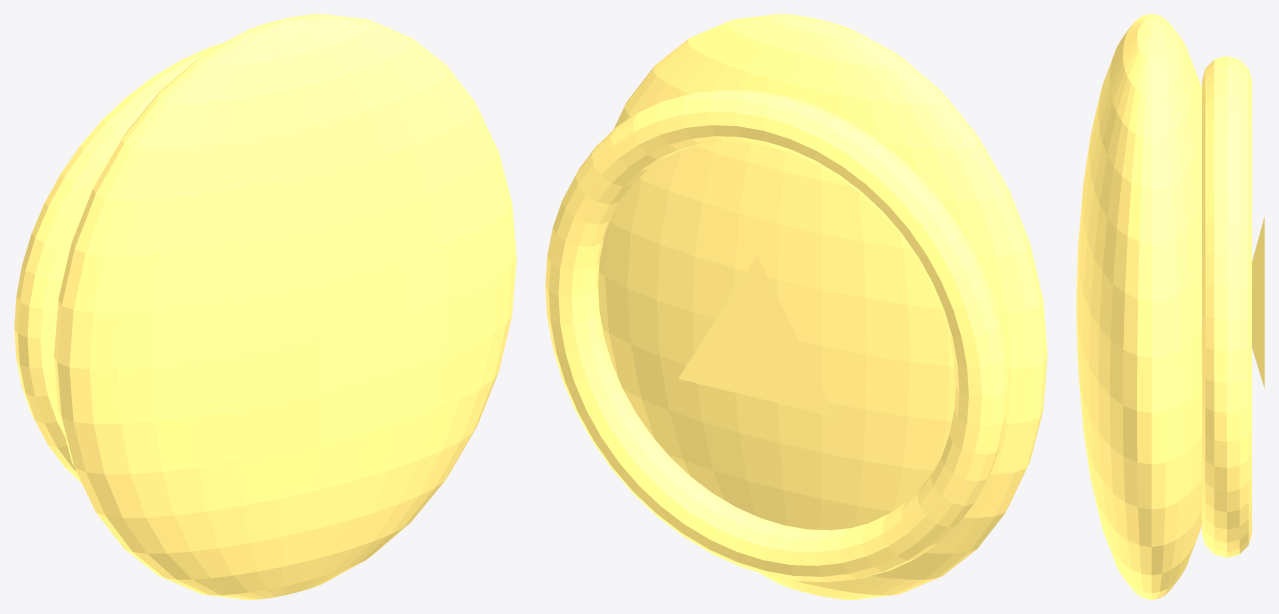
The model's file is shield_barrier.glb.
3 views of the same model, side by side, from view 1: azimuth 30°, elevation 25°; view 2: azimuth 150°, elevation 25°; view 3: azimuth 270°, elevation 25° (orthographic). The views are drawn at different scales.
Parts seen in each view (by area): view 1: Sphere, Torus.001; view 2: Sphere, Torus.001, Cone; view 3: Sphere, Torus.001, Cone.
Boxes of the visible parts, box(x1,y1,x2,y2) form: Sphere: box(54, 14, 516, 599); Torus.001: box(14, 42, 225, 482); Sphere: box(598, 14, 1047, 599); Torus.001: box(545, 89, 1008, 582); Cone: box(678, 255, 835, 417); Sphere: box(1076, 14, 1201, 599); Torus.001: box(1202, 56, 1251, 557); Cone: box(1252, 217, 1264, 388).
Bounding box in the file's own units: 0.4 × 0.48 × 0.15.
